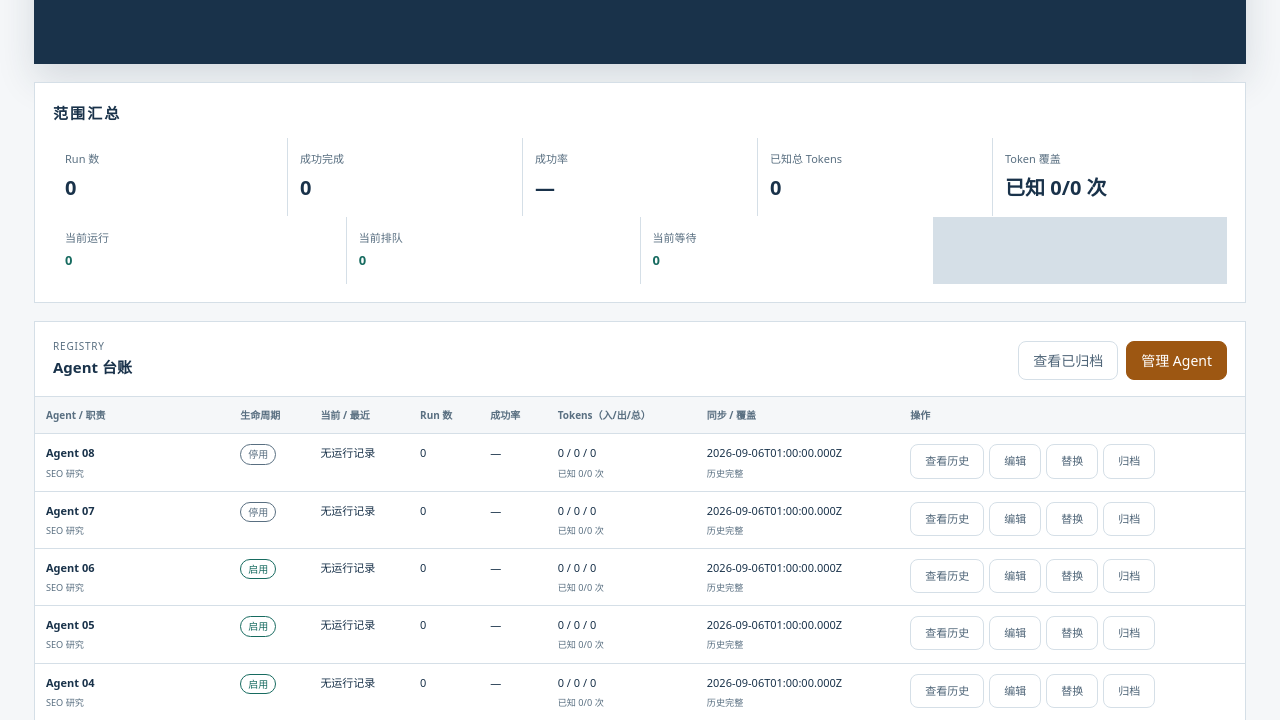
Test case: Agent Workbench › registry supports twelve mixed lifecycle agents
This screenshot has width=1280, height=720.
(page scrolled)
Expected: the text "Agent 11" is not shown
What coordinates should you click on to do the following:
click the button "查看已归档"
I would click on:
 (1068, 360)
Its box is [1018, 341, 1118, 380].
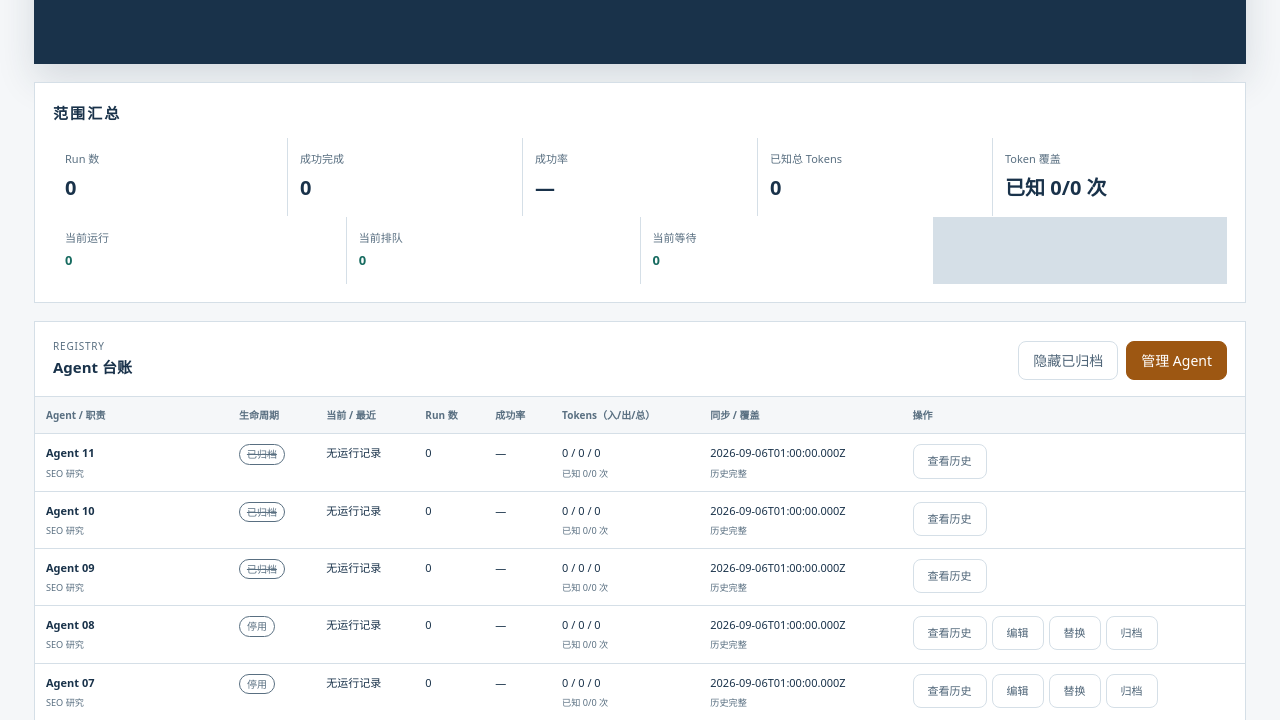
Expected: the number of rows is 13
Expected: the text "Agent 11" is shown, [46, 445, 94, 460]
